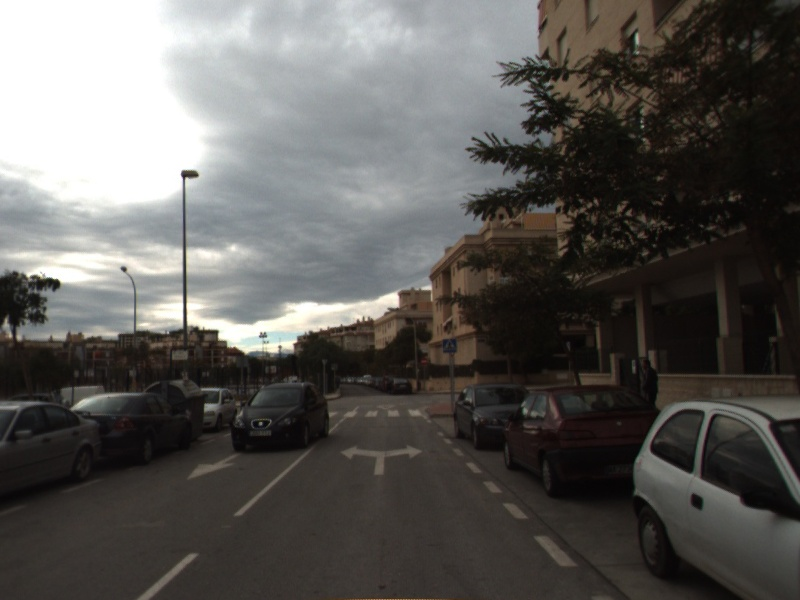LEFT_RIGHT: (338, 442, 425, 477)
